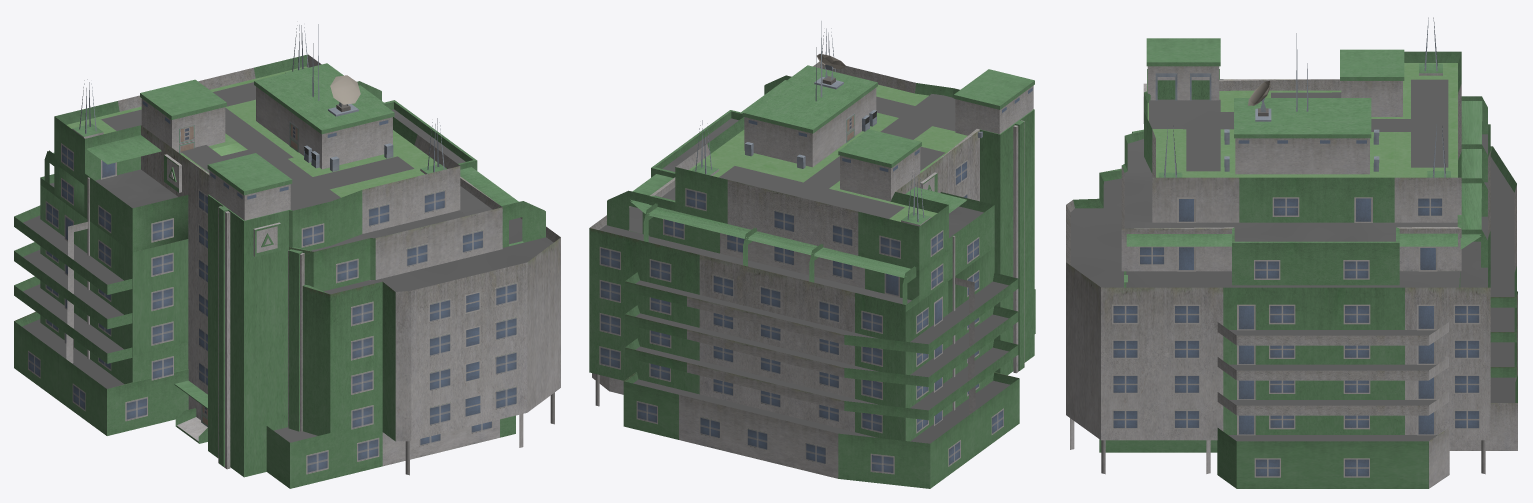
File: ORB_4_S7_Detail_2.fbx
3 renders of one model, left to right at view 1: azimuth 30°, elevation 25°; view 2: azimuth 150°, elevation 25°; view 3: azimuth 270°, elevation 25°, orthographic. The views are drawn at different scales.
Parts seen in each view (by area): view 1: ORB_4_S7_Detail_2; view 2: ORB_4_S7_Detail_2; view 3: ORB_4_S7_Detail_2.
Boxes of the visible parts, box(x1,y1,x2,y2) form: ORB_4_S7_Detail_2: box(14, 24, 560, 488); ORB_4_S7_Detail_2: box(589, 21, 1035, 488); ORB_4_S7_Detail_2: box(1066, 17, 1517, 488).
Size of the model in its own units: 3010 by 2794 by 3024.
